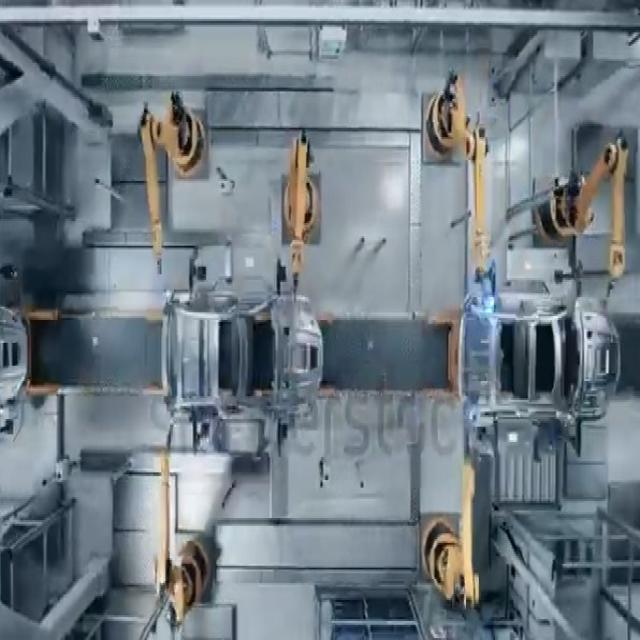auto: (158, 280, 337, 434), (452, 284, 630, 430)
robot: (132, 60, 214, 299), (548, 118, 638, 303), (416, 88, 498, 291), (148, 429, 220, 630), (416, 444, 488, 626), (266, 140, 328, 296)
